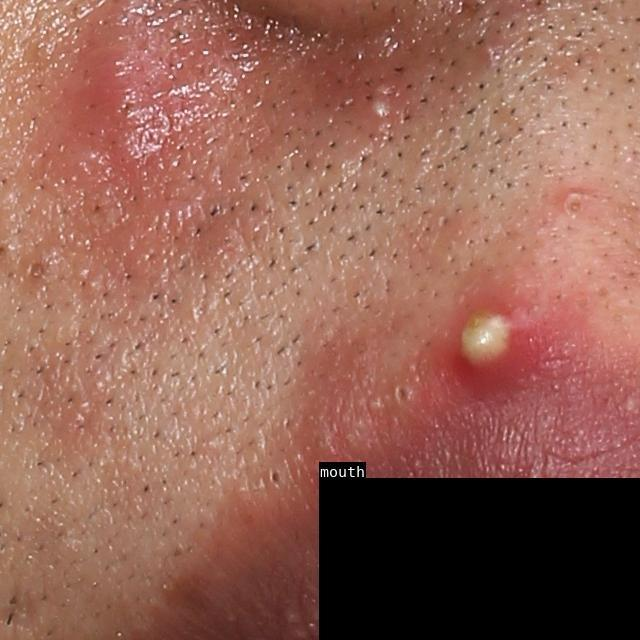comedo: (14, 249, 68, 292), (263, 461, 290, 492), (393, 379, 418, 406)
pustule: (430, 265, 547, 399), (362, 72, 399, 125)
